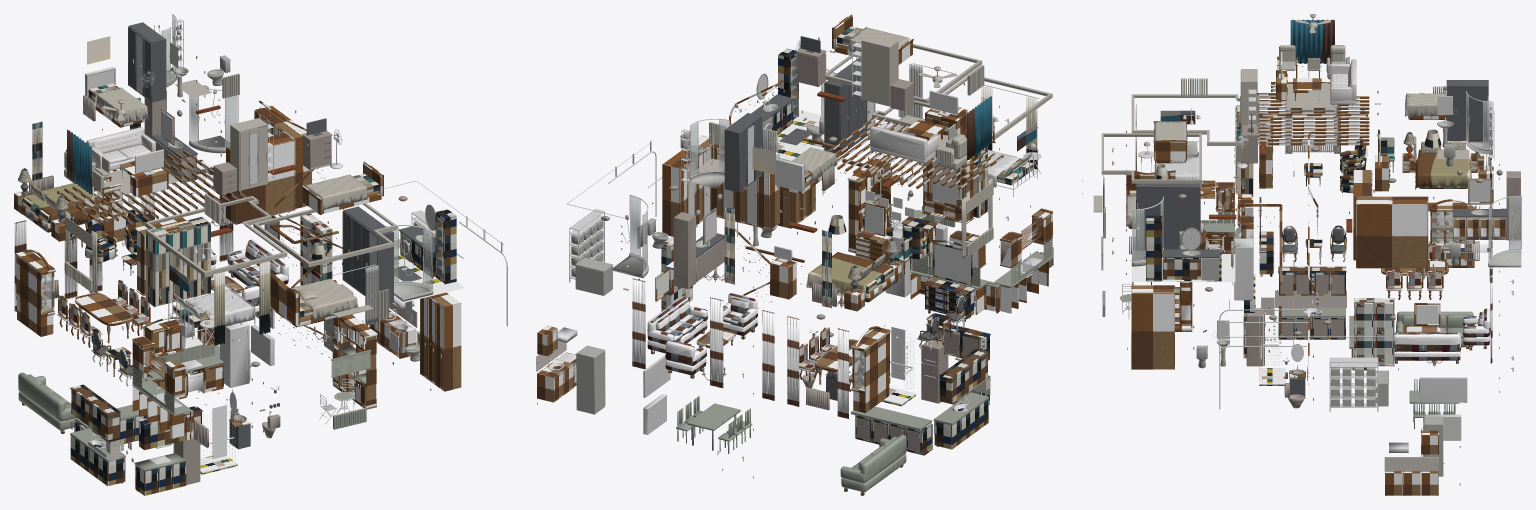
File: interior.glb
3 renders of one model, left to right at view 1: azimuth 30°, elevation 25°; view 2: azimuth 150°, elevation 25°; view 3: azimuth 270°, elevation 25°, orthographic. The views are drawn at different scales.
Visible parts, largest first — view 1: interior-wood-0, interior-other-3, interior-other-5, interior-other-2, interior-metal-7, interior-other-1, interior-other-4, interior-fabric-8, interior-glass-9, interior-other-12, interior-metal-11, interior-tile-6; view 2: interior-wood-0, interior-other-3, interior-metal-7, interior-other-2, interior-fabric-8, interior-other-5, interior-other-1, interior-other-4, interior-glass-9, interior-other-12, interior-metal-11, interior-tile-6; view 3: interior-wood-0, interior-other-3, interior-other-5, interior-metal-7, interior-other-1, interior-other-4, interior-other-2, interior-fabric-8, interior-glass-9, interior-tile-6, interior-other-12, interior-wood-13.
Boxes of the visible parts, x1,y1,x2,y2 form: interior-wood-0: [14, 96, 461, 440]; interior-other-3: [20, 22, 456, 495]; interior-other-5: [64, 68, 397, 324]; interior-other-2: [18, 26, 407, 471]; interior-metal-7: [85, 14, 507, 467]; interior-other-1: [21, 24, 441, 484]; interior-other-4: [166, 55, 433, 361]; interior-fabric-8: [14, 127, 288, 315]; interior-glass-9: [42, 15, 443, 347]; interior-other-12: [200, 248, 464, 474]; interior-metal-11: [212, 392, 236, 458]; interior-tile-6: [71, 303, 417, 462]; interior-wood-0: [537, 14, 1052, 495]; interior-other-3: [696, 36, 990, 455]; interior-metal-7: [548, 40, 1042, 438]; interior-other-2: [676, 26, 1053, 492]; interior-fabric-8: [632, 123, 938, 418]; interior-other-5: [657, 27, 1052, 298]; interior-other-1: [537, 37, 1053, 478]; interior-other-4: [571, 63, 1037, 414]; interior-glass-9: [630, 55, 889, 389]; interior-other-12: [777, 110, 915, 406]; interior-metal-11: [891, 326, 905, 380]; interior-tile-6: [536, 341, 990, 419]; interior-wood-0: [1126, 56, 1505, 495]; interior-other-3: [1136, 80, 1506, 398]; interior-other-5: [1093, 14, 1469, 323]; interior-metal-7: [1103, 52, 1521, 452]; interior-other-1: [1082, 60, 1520, 485]; interior-other-4: [1103, 106, 1521, 476]; interior-other-2: [1101, 105, 1491, 429]; interior-fabric-8: [1330, 59, 1492, 363]; interior-glass-9: [1132, 94, 1520, 333]; interior-tile-6: [1261, 290, 1438, 471]; interior-other-12: [1131, 254, 1289, 385]; interior-wood-13: [1203, 142, 1435, 259].
Bounding box in the file's own units: 13.23 × 12.15 × 14.56.
14 materials, 14 textured.
